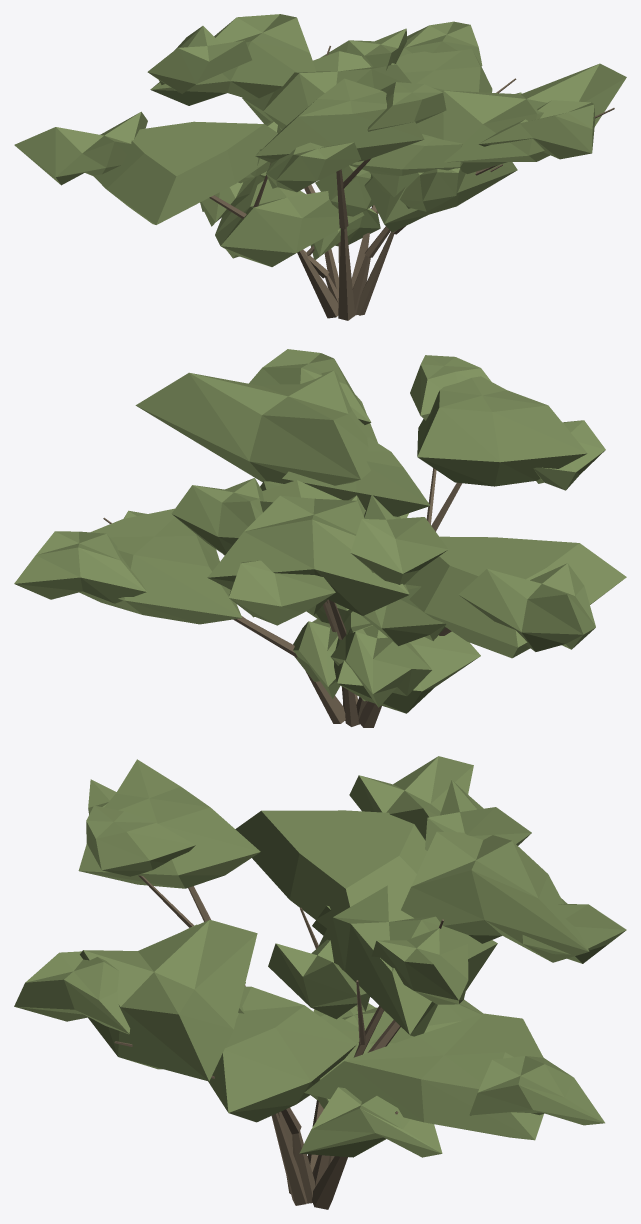
Rendered from sand-plum-low-lite.glb.
The picture shows the model from 3 angles, top to bottom: view 1: azimuth 30°, elevation 25°; view 2: azimuth 150°, elevation 25°; view 3: azimuth 270°, elevation 25°; orthographic projection. The views are drawn at different scales.
Visible parts, largest first — view 1: sand-plum-low-lite / foliage, sand-plum-low-lite / stems; view 2: sand-plum-low-lite / foliage, sand-plum-low-lite / stems; view 3: sand-plum-low-lite / foliage, sand-plum-low-lite / stems.
Boxes of the visible parts, x1,y1,x2,y2 form: sand-plum-low-lite / foliage: [14, 14, 626, 266]; sand-plum-low-lite / stems: [209, 46, 614, 320]; sand-plum-low-lite / foliage: [14, 349, 626, 713]; sand-plum-low-lite / stems: [103, 468, 461, 727]; sand-plum-low-lite / foliage: [14, 756, 626, 1157]; sand-plum-low-lite / stems: [114, 875, 443, 1209].
Bounding box in the file's own units: 2.19 × 1.14 × 1.69.
